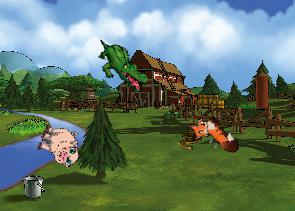crocodile: (87, 37, 156, 94)
fox: (182, 106, 242, 168)
pig: (33, 120, 85, 170)
